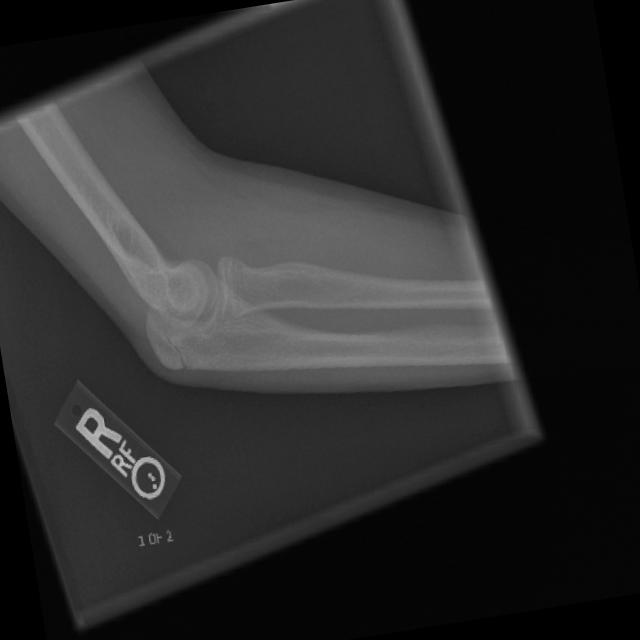elbow positive: (138, 308, 219, 389)
